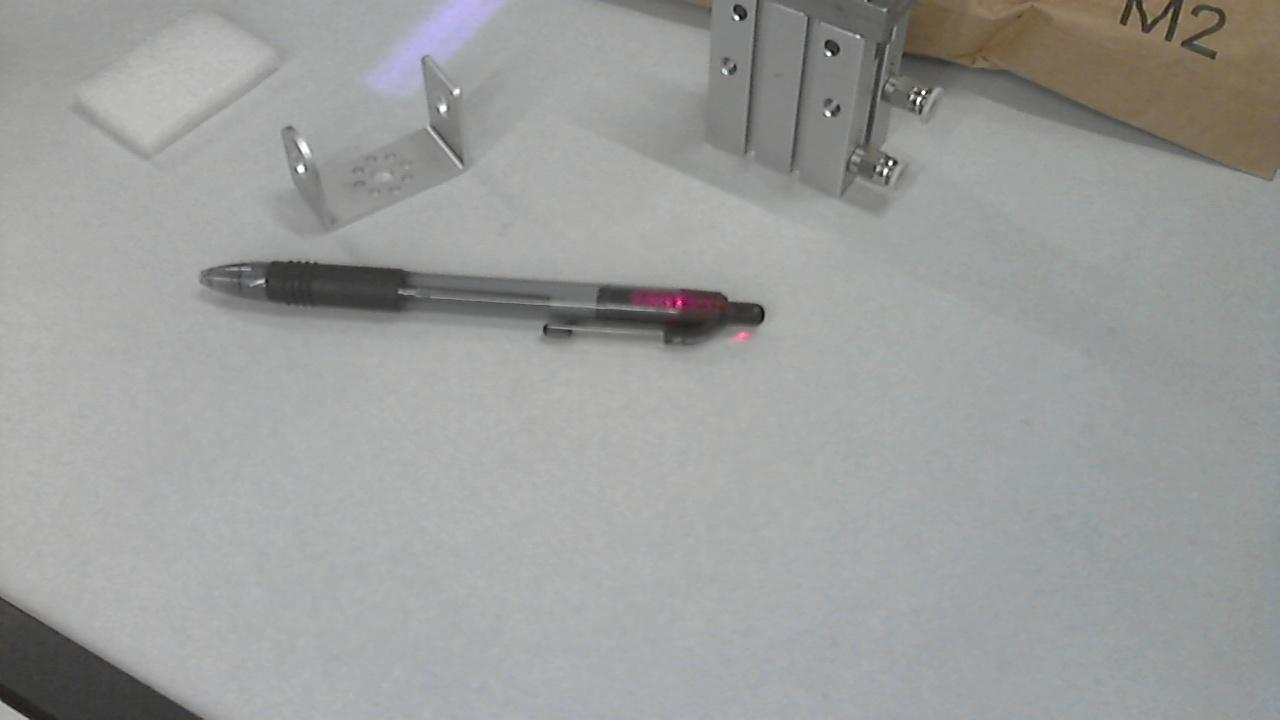Object retractable gel pen - Material plastic- Pdfname asdasdaswe: (618, 290, 741, 318)
